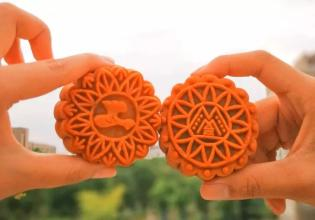MoonCake: (52, 65, 162, 169), (160, 71, 260, 179)
